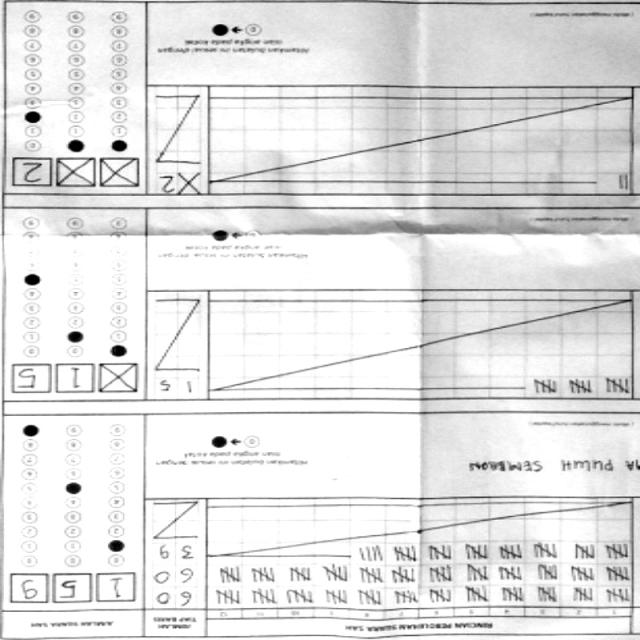Suara: (5, 568, 138, 607), (8, 359, 141, 398), (10, 154, 144, 192)
